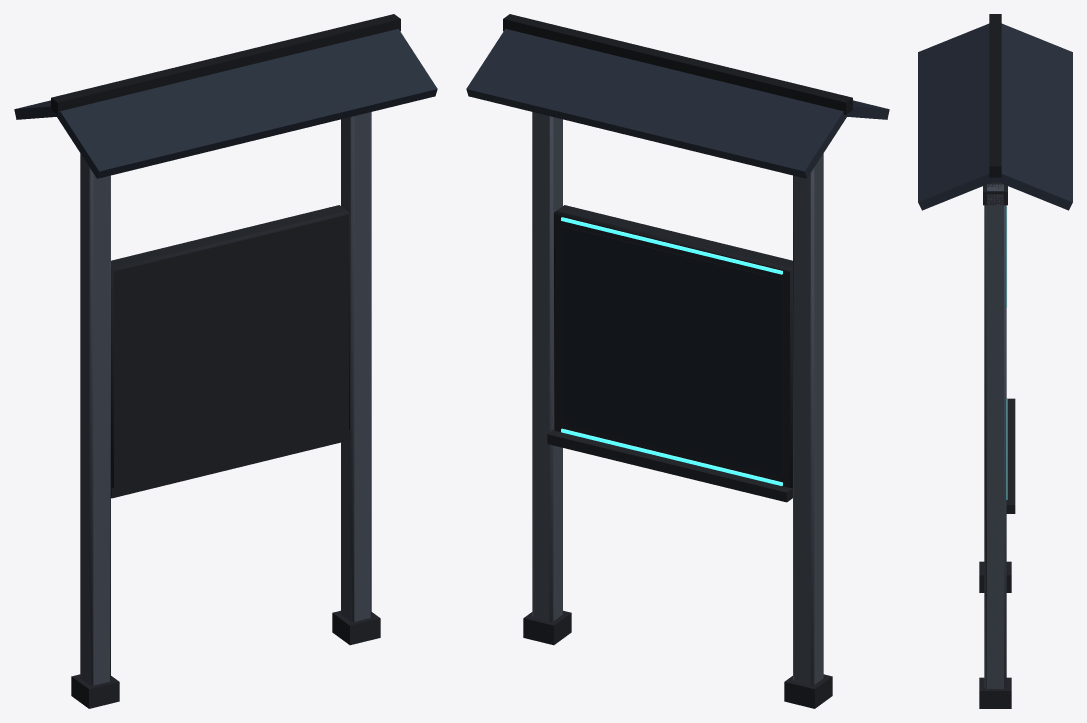
Rendered from noticeboard.glb.
3 views of the same model, side by side, from view 1: azimuth 30°, elevation 25°; view 2: azimuth 150°, elevation 25°; view 3: azimuth 270°, elevation 25° (orthographic). The views are drawn at different scales.
Parts seen in each view (by area): view 1: body; view 2: body; view 3: body.
Boxes of the visible parts, left/top/right/bottom form: body: left=14, top=14, right=437, bottom=708; body: left=466, top=14, right=889, bottom=708; body: left=918, top=14, right=1072, bottom=708.
Size of the model in its own units: 1.46 by 2.48 by 0.6269.
